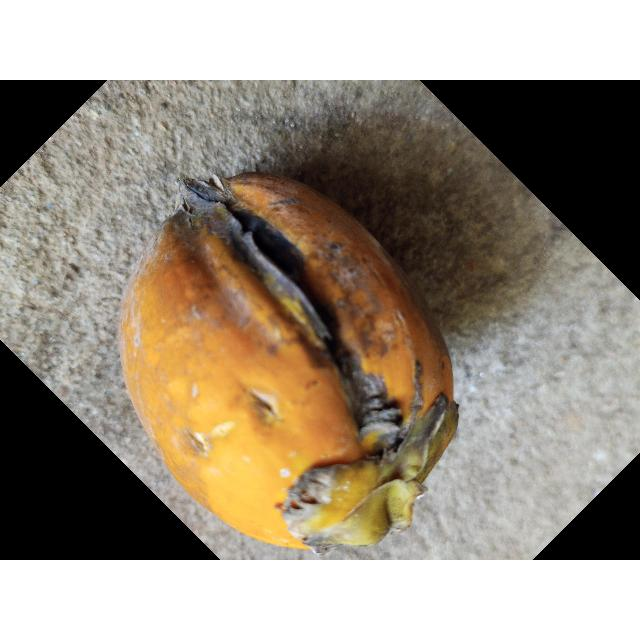damaged: (116, 173, 463, 557)
